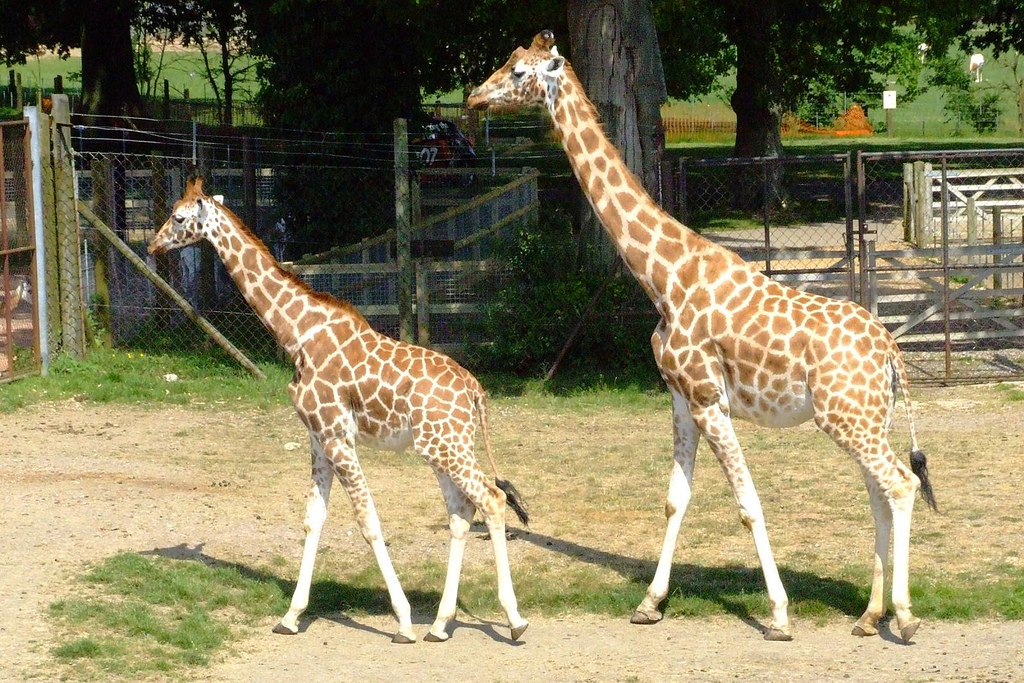giraffe: (472, 28, 985, 639), (137, 162, 549, 668)
